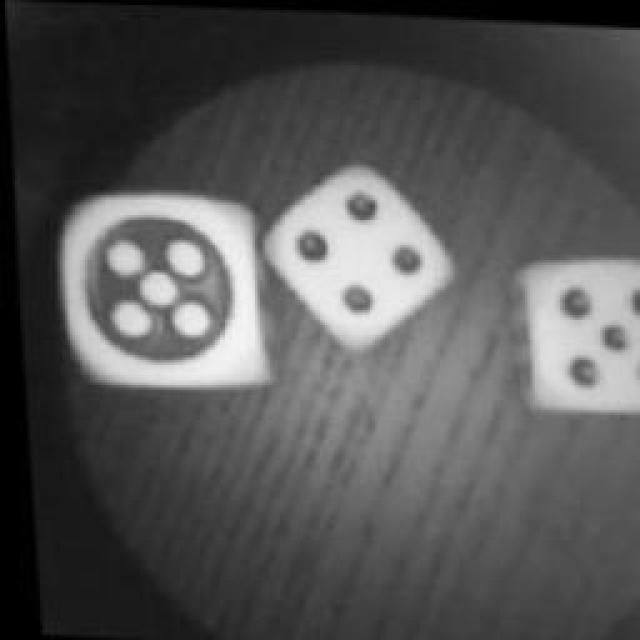dice_4: (258, 162, 444, 360)
dice_5: (49, 184, 281, 398), (505, 240, 640, 418)
